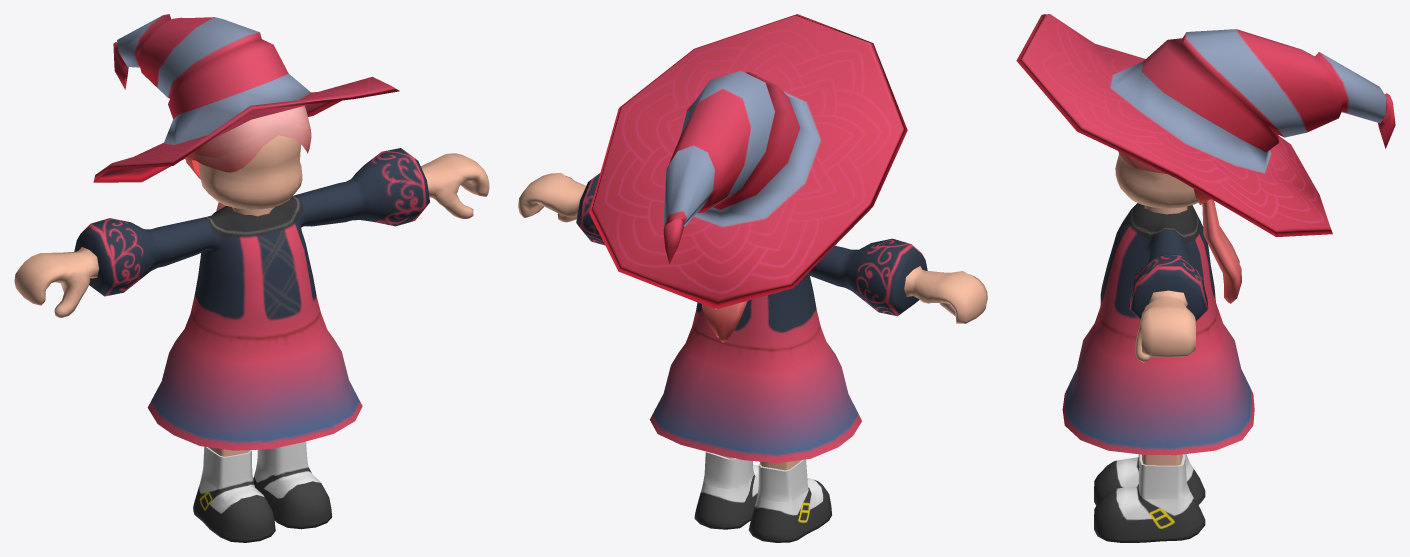
Rendered from Forest_character.fbx.
3 renders of one model, left to right at view 1: azimuth 30°, elevation 25°; view 2: azimuth 150°, elevation 25°; view 3: azimuth 270°, elevation 25°, orthographic. The views are drawn at different scales.
Visible parts, largest first — view 1: Witch_character; view 2: Witch_character; view 3: Witch_character.
Boxes of the visible parts, x1,y1,x2,y2 form: Witch_character: [14, 14, 489, 542]; Witch_character: [518, 14, 987, 542]; Witch_character: [1016, 14, 1395, 542].
Size of the model in its own units: 257 by 251 by 179.
